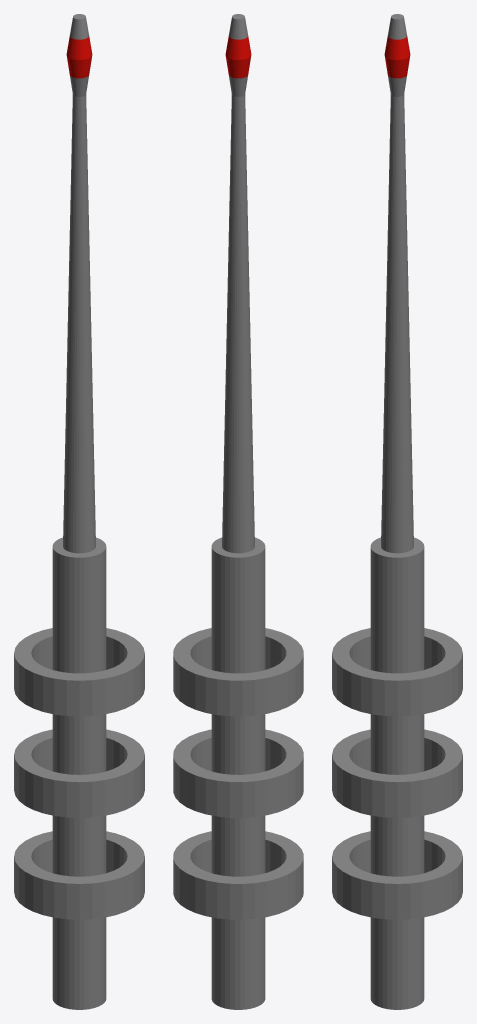
File: teslacoil.fbx
3 renders of one model, left to right at view 1: azimuth 90°, elevation 25°; view 2: azimuth 150°, elevation 25°; view 3: azimuth 270°, elevation 25°, orthographic.
Parts seen in each view (by area): view 1: Cylinder; view 2: Cylinder; view 3: Cylinder.
Boxes of the visible parts, box(x1,y1,x2,y2) form: Cylinder: box(14, 14, 144, 1009); Cylinder: box(173, 14, 303, 1009); Cylinder: box(332, 14, 462, 1009).
Size of the model in its own units: 0.694 by 0.694 by 5.75.
